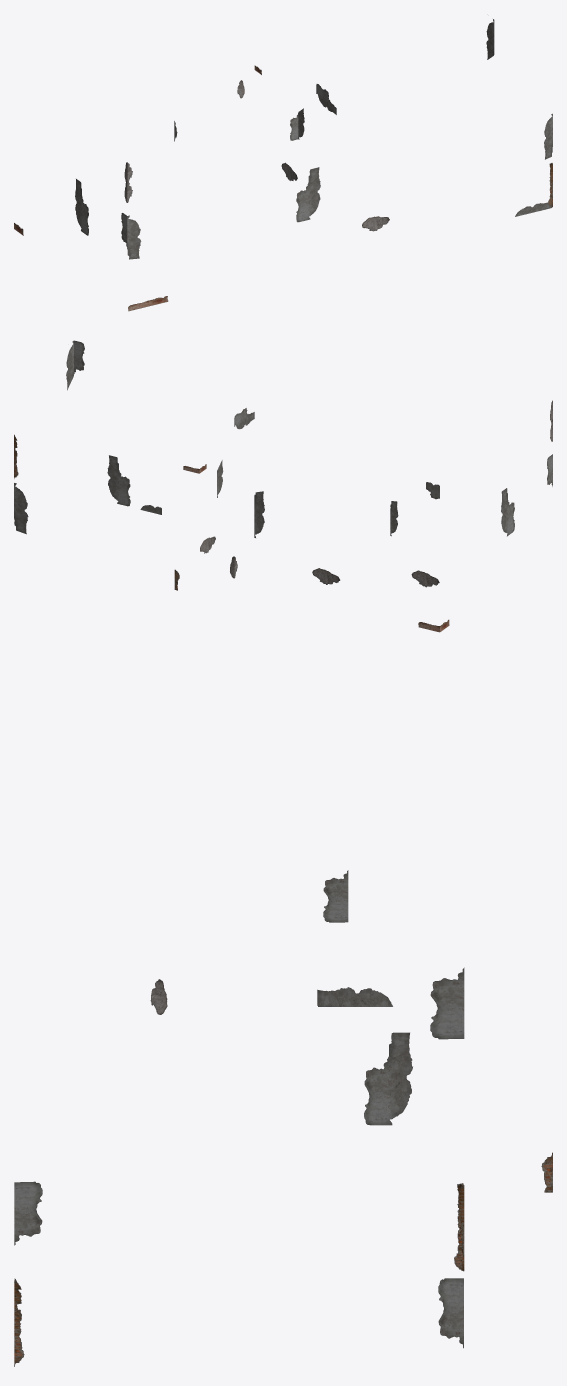
The model's file is Building_3cDecal01.glb.
3 views of the same model, one above another, from view 1: azimuth 30°, elevation 25°; view 2: azimuth 150°, elevation 25°; view 3: azimuth 270°, elevation 25° (orthographic). The views are drawn at different scales.
Parts seen in each view (by area): view 1: xiutz_3c_decal_01; view 2: xiutz_3c_decal_01; view 3: xiutz_3c_decal_01.
Part boxes in pixels (x1,y1,x2,y2): xiutz_3c_decal_01: (14,19,552,311); xiutz_3c_decal_01: (14,340,552,632); xiutz_3c_decal_01: (14,870,552,1366).
Size of the model in its own units: 43.75 by 14.97 by 24.2.
Materials: 1 (1 with a texture image).
